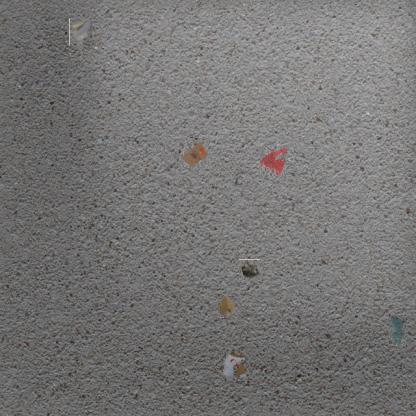dirty: (180, 139, 209, 167), (220, 352, 248, 380), (69, 18, 92, 46), (239, 259, 260, 281), (218, 296, 238, 318)
liquid: (259, 146, 288, 176), (388, 314, 406, 346)
